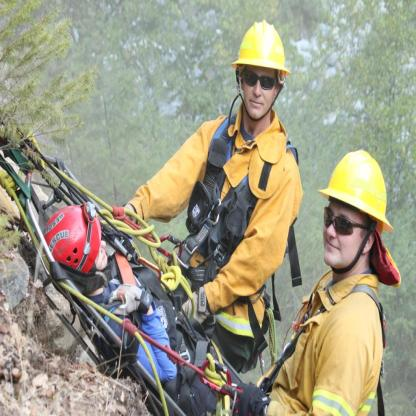Helmet: (316, 146, 391, 274), (232, 20, 290, 126), (44, 208, 101, 286)
